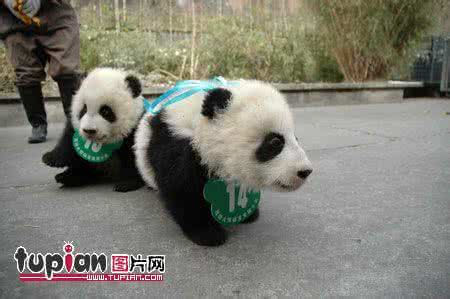panda: (131, 75, 317, 250), (41, 63, 151, 193)
